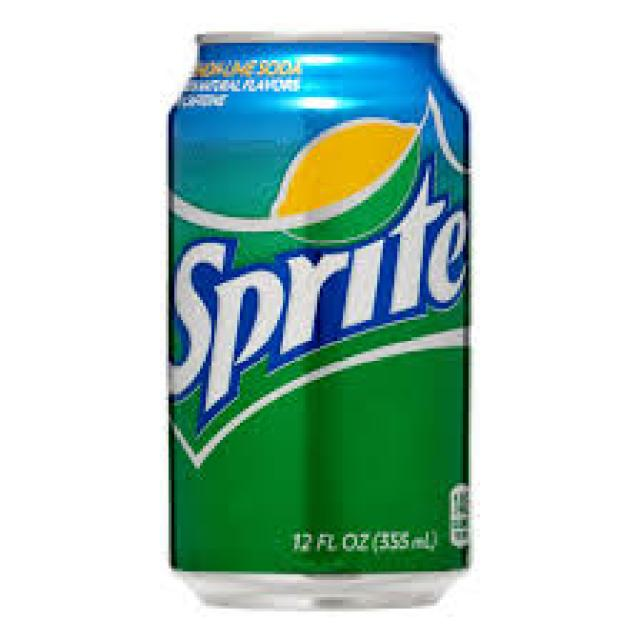aluminum_can: (171, 34, 471, 606)
